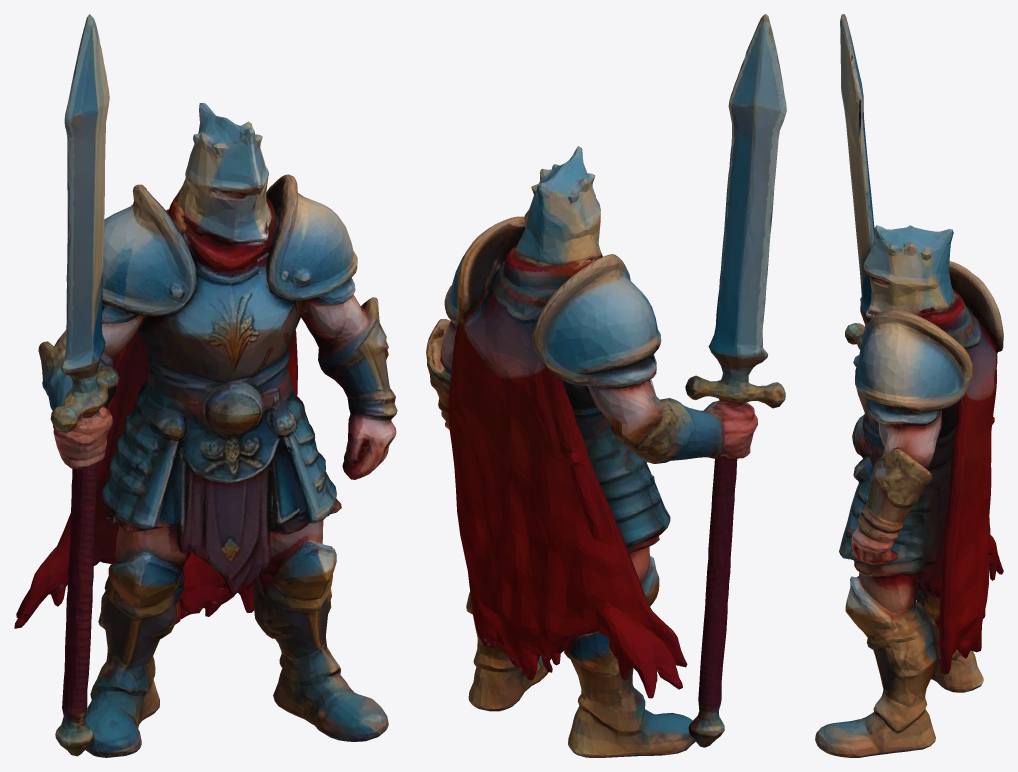
Rendered from warrior_knight_2.glb.
3 views of the same model, side by side, from view 1: azimuth 30°, elevation 25°; view 2: azimuth 150°, elevation 25°; view 3: azimuth 270°, elevation 25° (orthographic). The views are drawn at different scales.
Bounding box in the file's own units: 0.9398 × 1.97 × 0.5352.
Materials: 1 (1 with a texture image).
